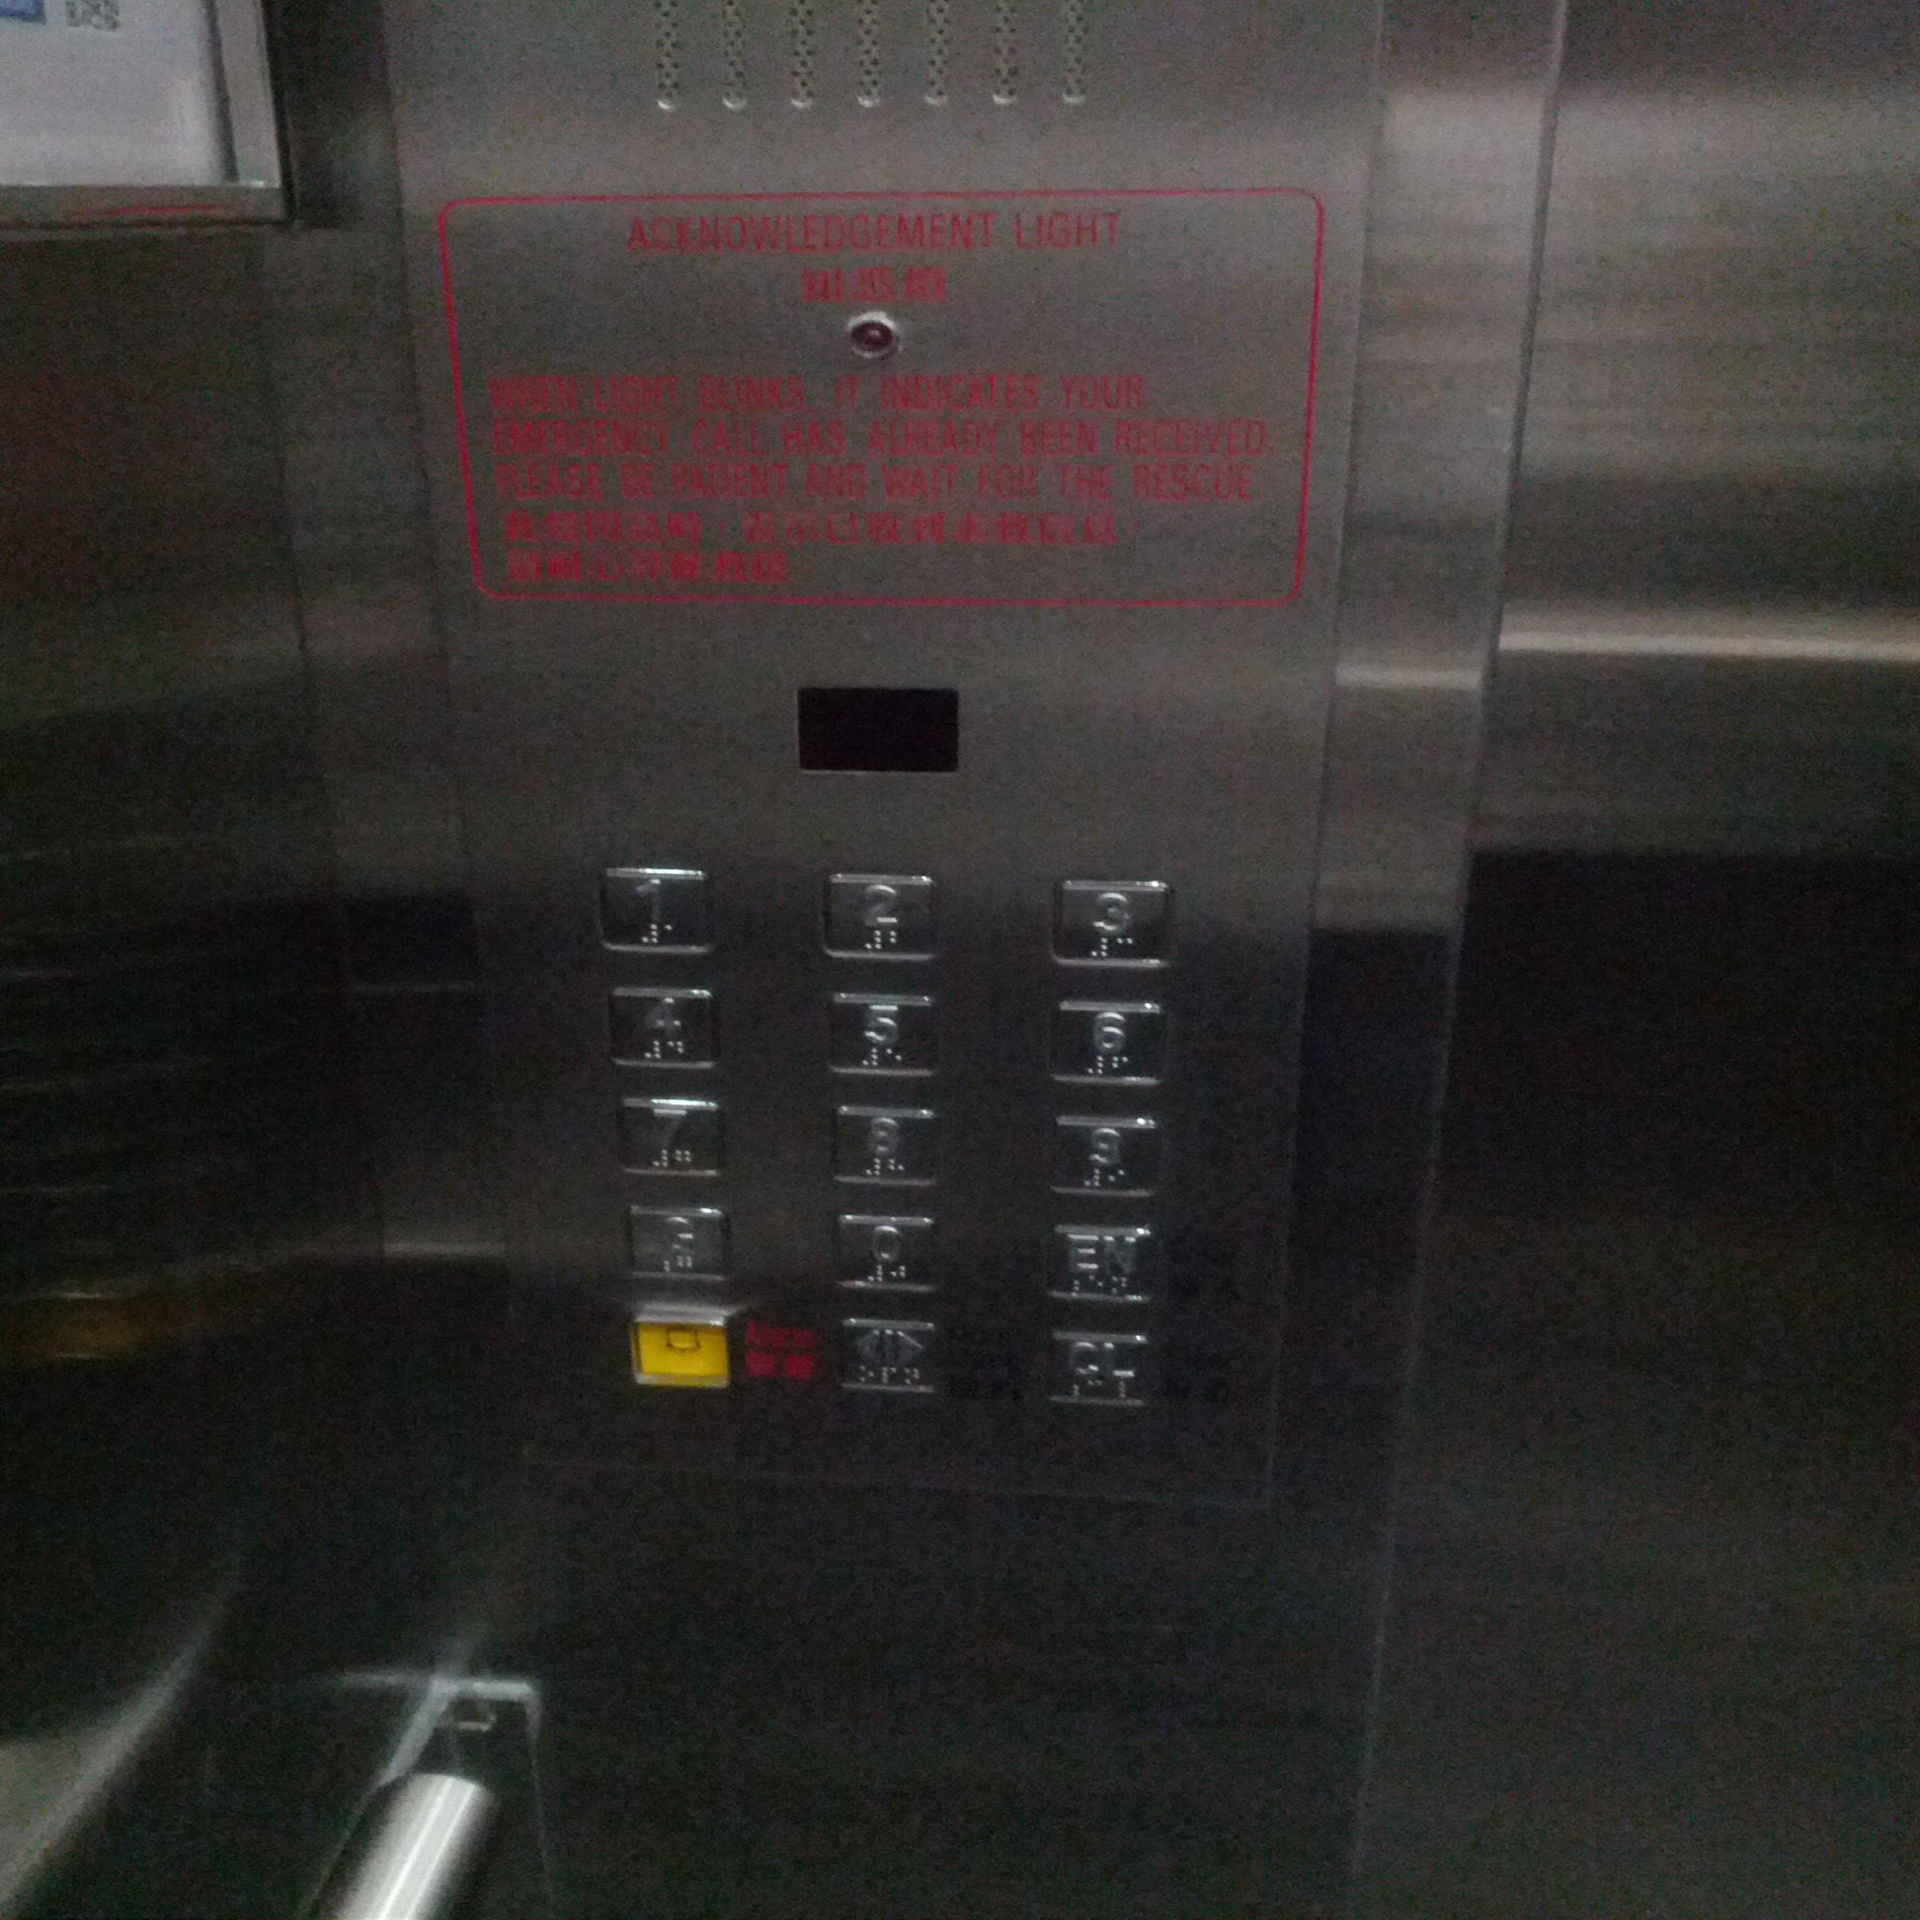0: (828, 1208, 946, 1296)
1: (593, 860, 719, 962)
2: (816, 862, 941, 965)
3: (1050, 874, 1176, 974)
4: (601, 979, 724, 1073)
5: (819, 986, 949, 1081)
6: (1046, 993, 1176, 1090)
7: (608, 1088, 731, 1182)
8: (826, 1097, 944, 1190)
9: (1046, 1109, 1166, 1201)
CL: (1039, 1324, 1155, 1412)
EN: (1044, 1215, 1162, 1303)
G: (619, 1197, 737, 1285)
alarm: (624, 1305, 740, 1393)
open: (832, 1312, 949, 1400)
